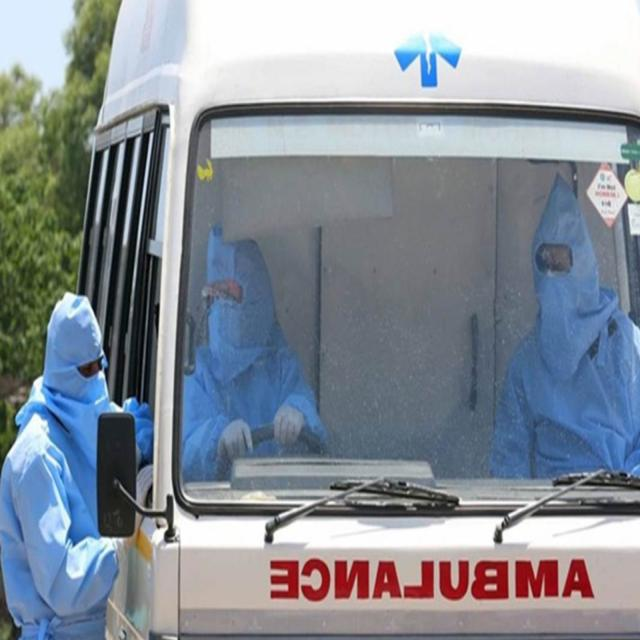emergency: (79, 0, 640, 639)
